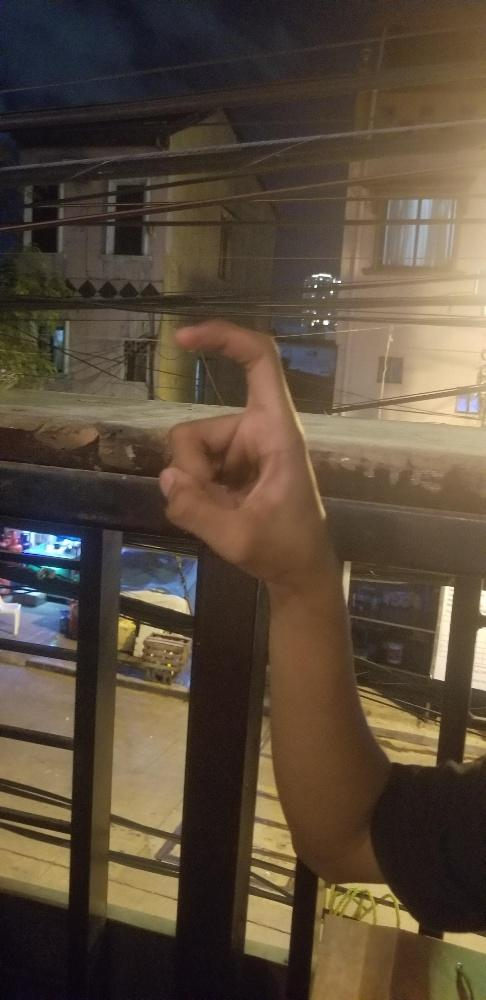x: (158, 318, 331, 574)
